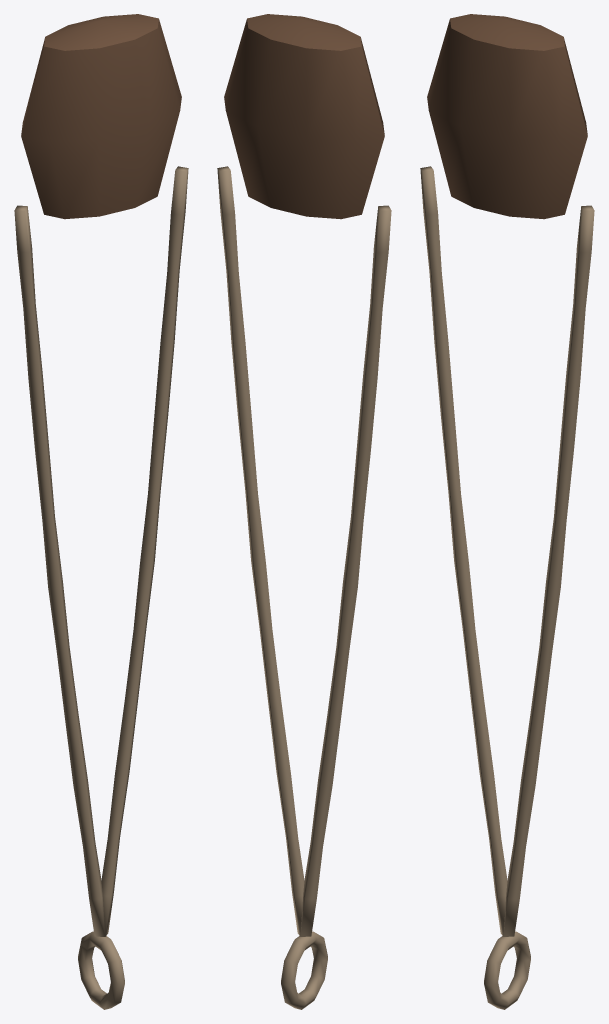
File: sling.glb
3 renders of one model, left to right at view 1: azimuth 30°, elevation 25°; view 2: azimuth 150°, elevation 25°; view 3: azimuth 330°, elevation 25°, orthographic.
Parts seen in each view (by area): view 1: sling; view 2: sling; view 3: sling.
Boxes of the visible parts, <box> form: sling: <box>14,14,188,1009</box>; sling: <box>217,14,391,1009</box>; sling: <box>420,14,594,1009</box>.
Bounding box in the file's own units: 0.1516 × 0.8187 × 0.0666.
